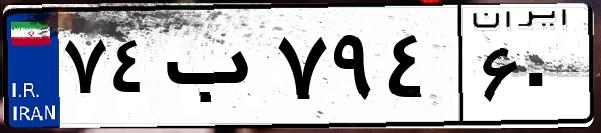0: (525, 38, 570, 115)
4: (385, 28, 445, 110), (110, 28, 158, 98)
6: (475, 38, 525, 113)
7: (270, 28, 330, 110), (57, 26, 110, 100)
9: (330, 28, 385, 110)
ب: (158, 20, 270, 120)
